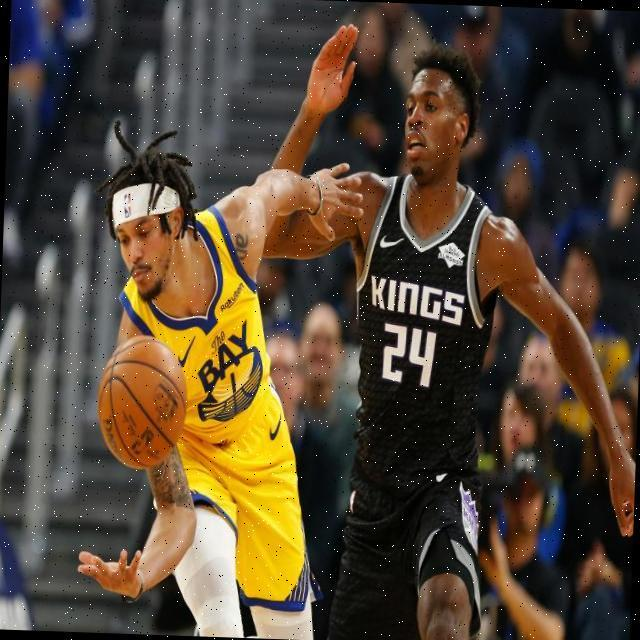ball: (96, 335, 188, 471)
